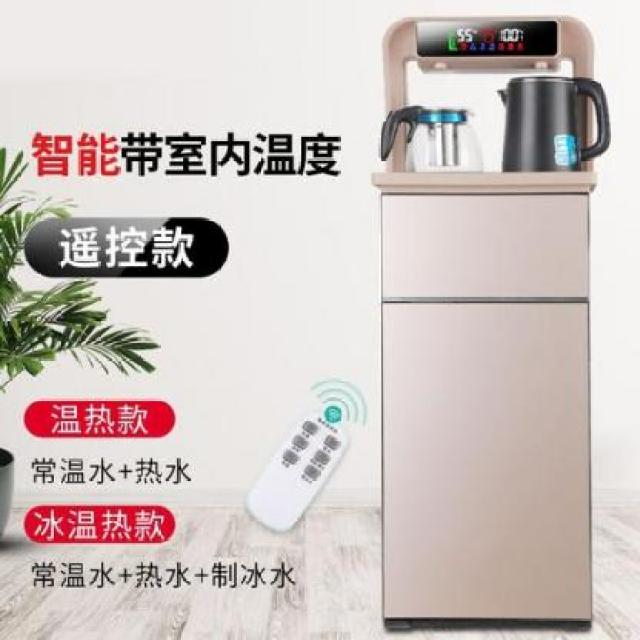cooler: (368, 9, 612, 639)
